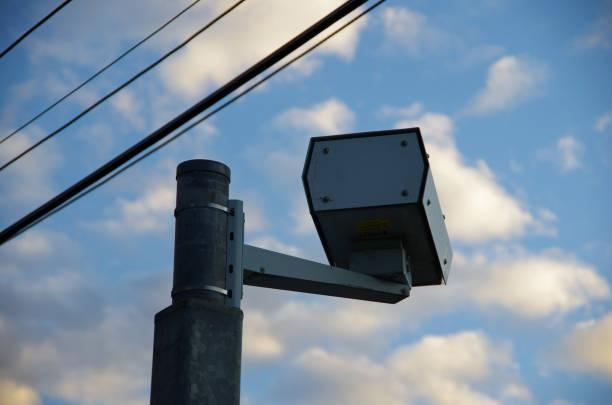camera: (282, 121, 483, 306)
